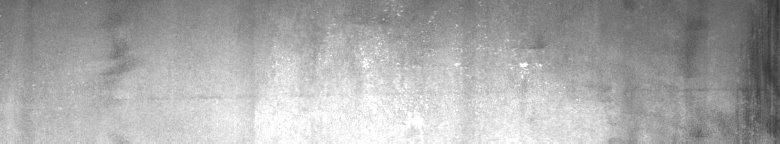ka: (686, 4, 776, 136)
